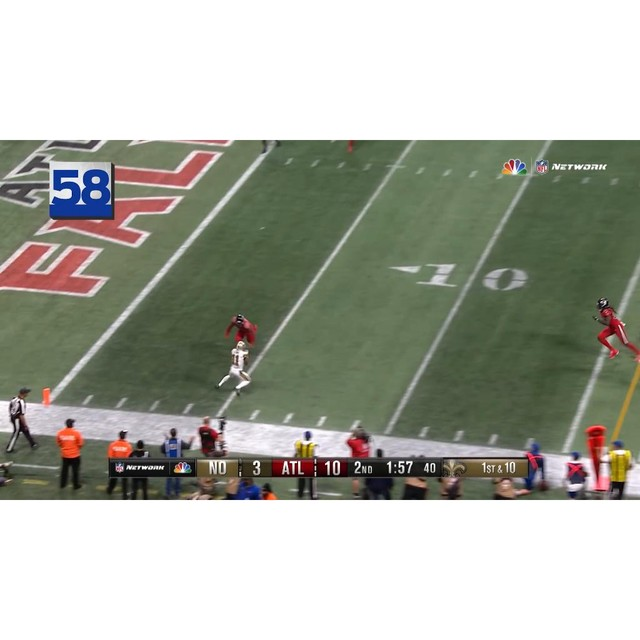american-football-player: (593, 296, 638, 362), (216, 340, 252, 394), (225, 313, 257, 349)
